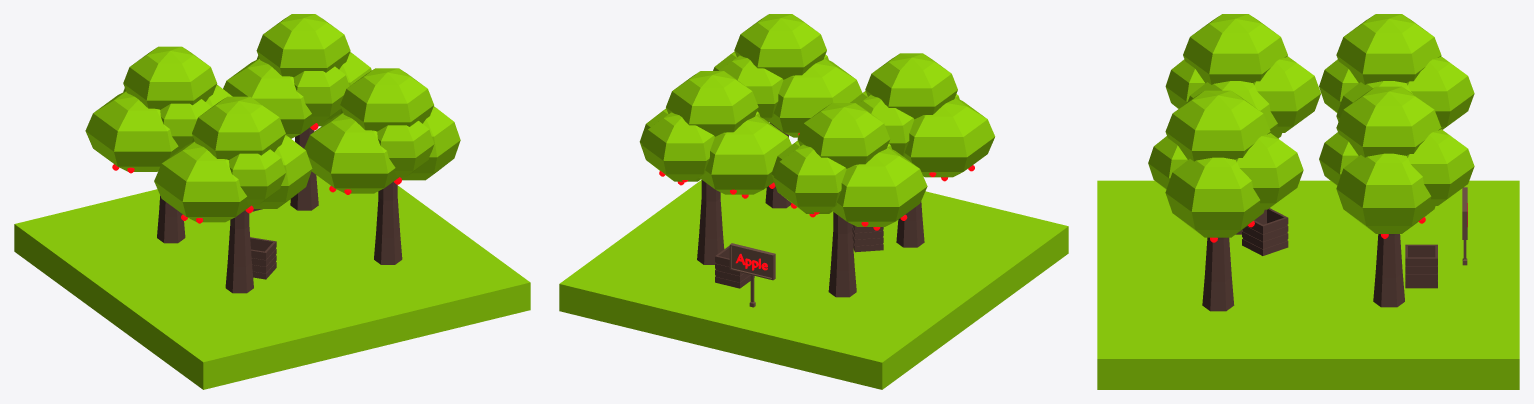
File: Apple_A.fbx
3 views of the same model, side by side, from view 1: azimuth 30°, elevation 25°; view 2: azimuth 150°, elevation 25°; view 3: azimuth 270°, elevation 25° (orthographic). The views are drawn at different scales.
Visible parts, largest first — view 1: Cube.033, Cylinder.001, Cylinder.002, Cylinder.006, Cylinder.007, Plane.023; view 2: Cube.033, Cylinder.006, Cylinder.007, Cylinder.001, Cylinder.002, Cube.065, Plane.022, Plane.023; view 3: Cube.033, Cylinder.007, Cylinder.002, Cylinder.001, Cylinder.006, Plane.023, Plane.022, Cube.065.
Part boxes in pixels (x1,y1,x2,y2): Cube.033: (14,175,530,389); Cylinder.001: (154,96,312,293); Cylinder.002: (304,68,460,264); Cylinder.006: (85,46,232,243); Cylinder.007: (223,14,371,210); Plane.023: (250,237,276,279); Cube.033: (559,180,1068,389); Cylinder.006: (771,103,927,297); Cylinder.007: (639,71,791,264); Cylinder.001: (850,53,995,247); Cylinder.002: (713,14,862,208); Cube.065: (729,243,775,307); Plane.022: (715,246,754,288); Plane.023: (852,224,883,252); Cube.033: (1097,180,1519,389); Cylinder.007: (1319,86,1474,307); Cylinder.002: (1148,90,1303,311); Cylinder.001: (1165,14,1320,234); Cylinder.006: (1319,14,1474,129); Plane.023: (1242,208,1288,255); Plane.022: (1405,244,1437,288); Cube.065: (1462,187,1467,265).
Bounding box in the file's own units: 2690 × 1728 × 2690.
